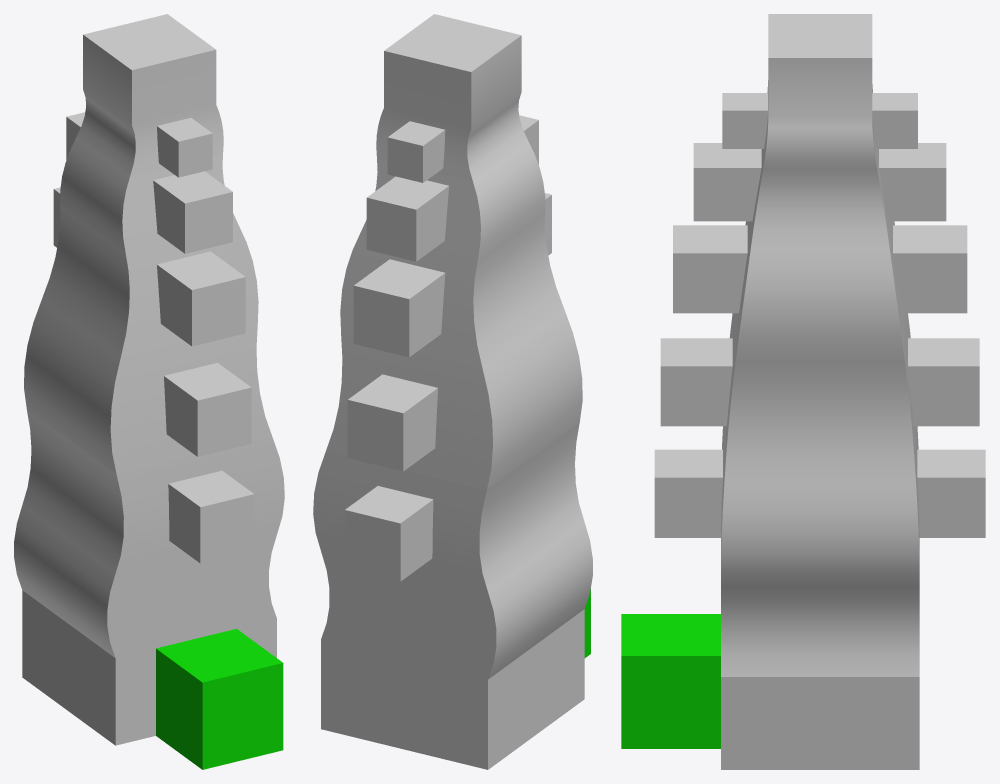
Rendered from SceneXRooms.fbx.
The picture shows the model from 3 angles, left to right: view 1: azimuth 30°, elevation 25°; view 2: azimuth 150°, elevation 25°; view 3: azimuth 270°, elevation 25°; orthographic projection. The views are drawn at different scales.
Parts seen in each view (by area): view 1: CenterRoom.007, Cube.032, CenterRoom.001, Room, CenterRoom; view 2: CenterRoom.007, Cube.032, CenterRoom, CenterRoom.001; view 3: CenterRoom.007, Cube.032, CenterRoom, CenterRoom.001, Room.
Part boxes in pixels (x1,y1,x2,y2): CenterRoom.007: (22,14,284,573); Cube.032: (53,112,254,563); CenterRoom.001: (14,505,276,658); Room: (156,629,283,769); CenterRoom: (22,590,276,745); CenterRoom.007: (313,14,584,592); Cube.032: (345,115,551,581); CenterRoom: (321,609,584,769); CenterRoom.001: (321,522,592,679); CenterRoom.007: (721,14,919,586); Cube.032: (654,93,985,537); CenterRoom: (721,677,919,769); CenterRoom.001: (721,587,919,676); Room: (621,614,720,748).
Size of the model in its own units: 659 by 2305 by 1099.
